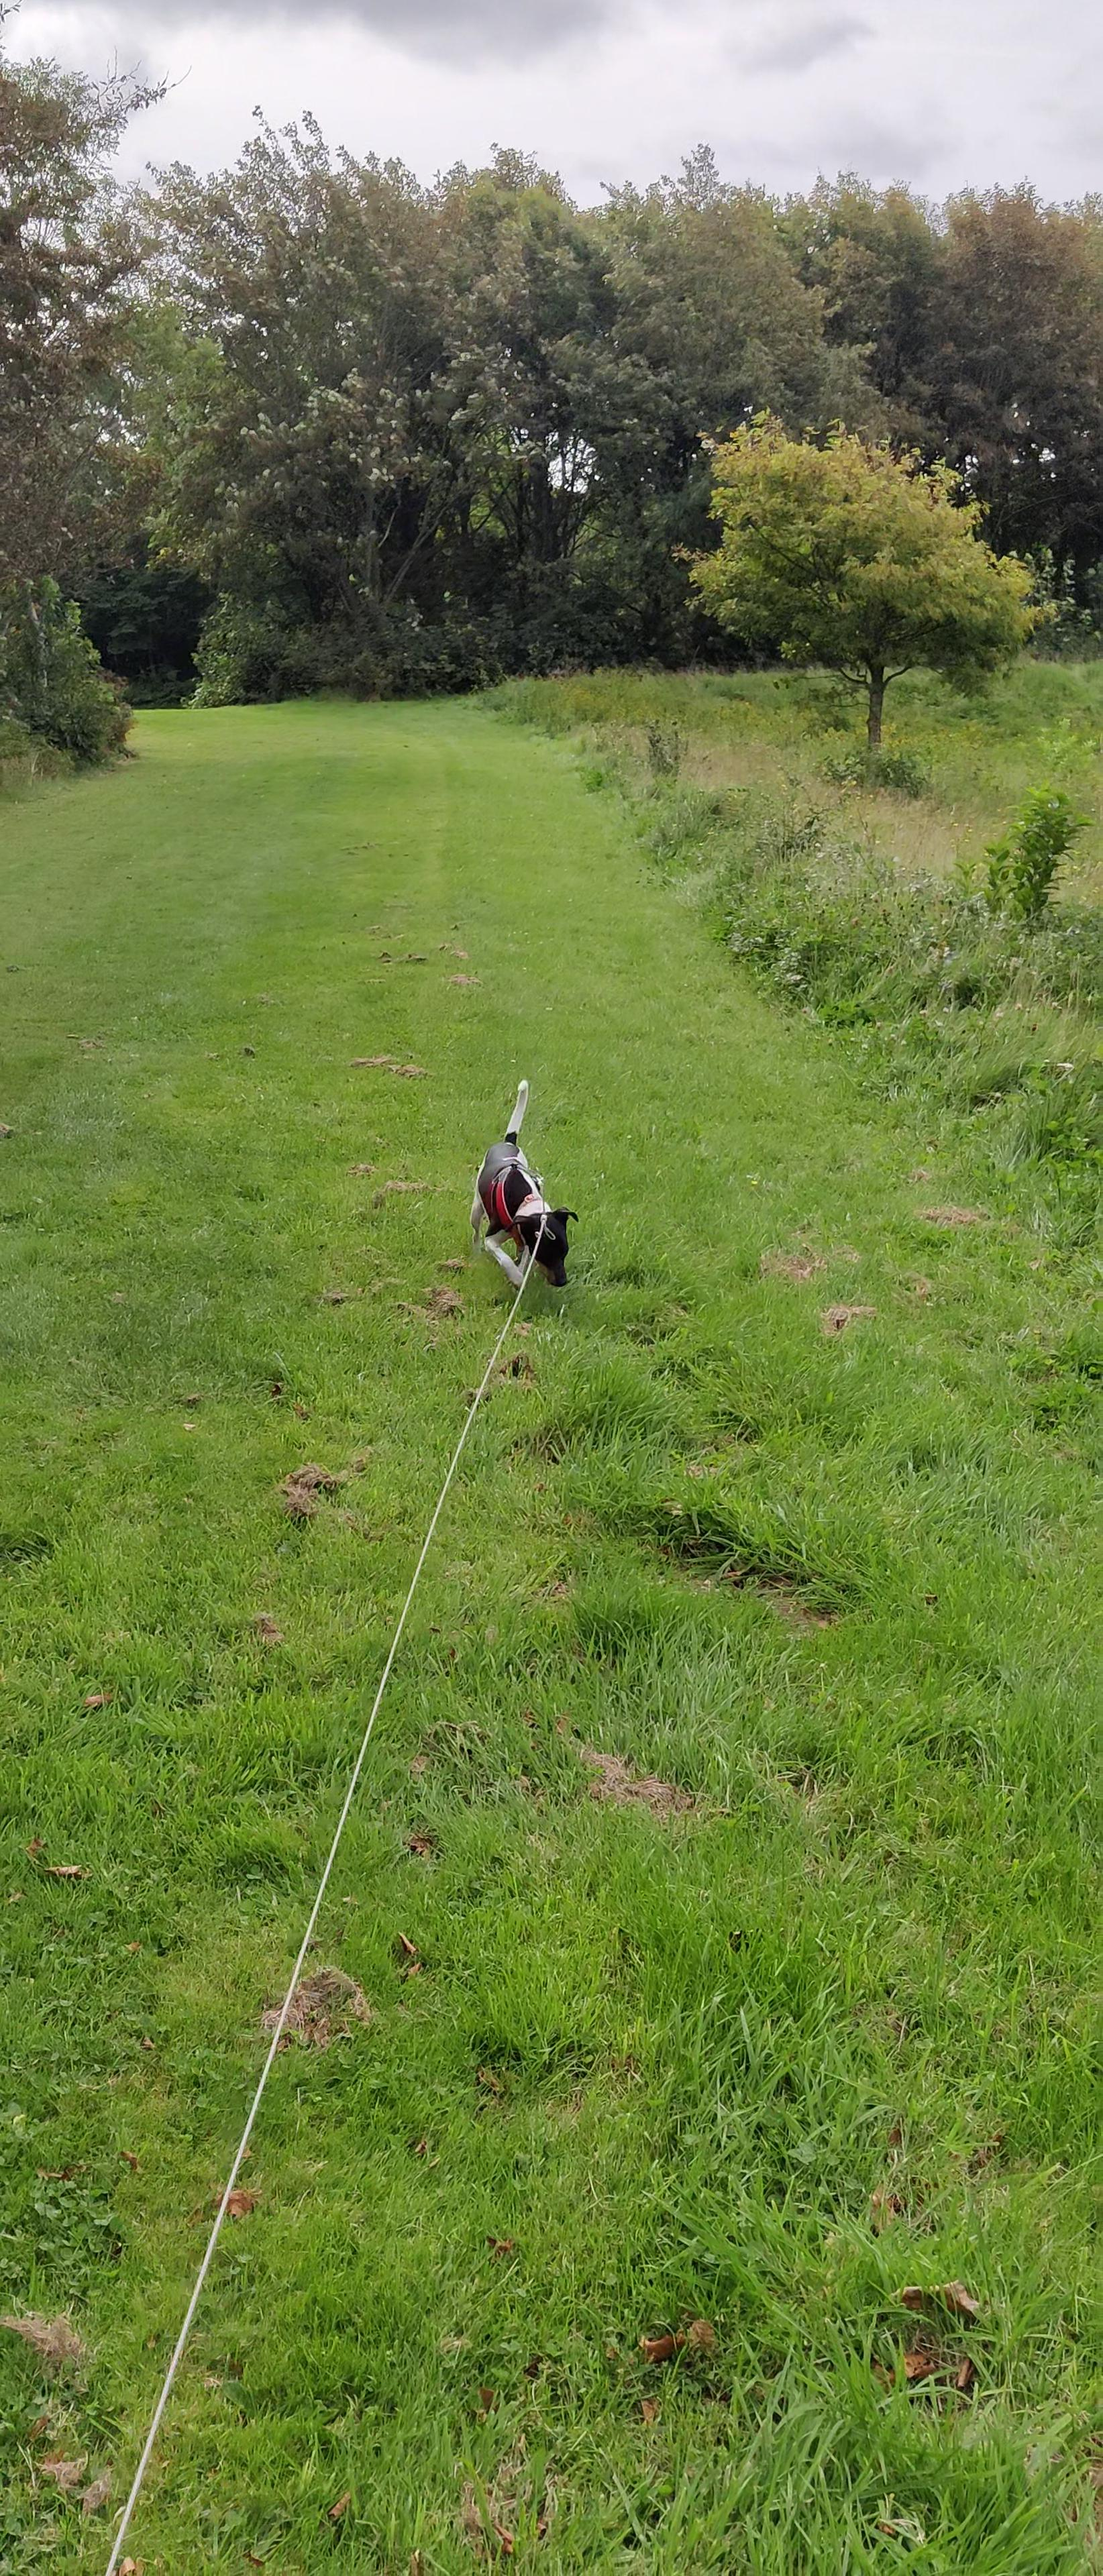Dog: (464, 1074, 582, 1303)
